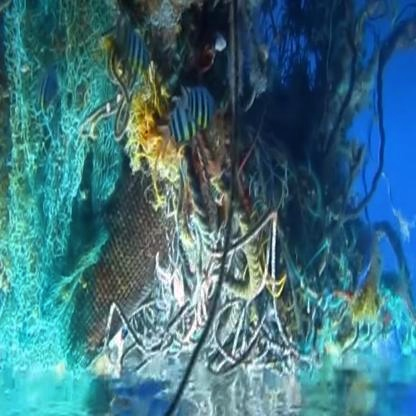net: (194, 184, 360, 399), (7, 29, 85, 301)
